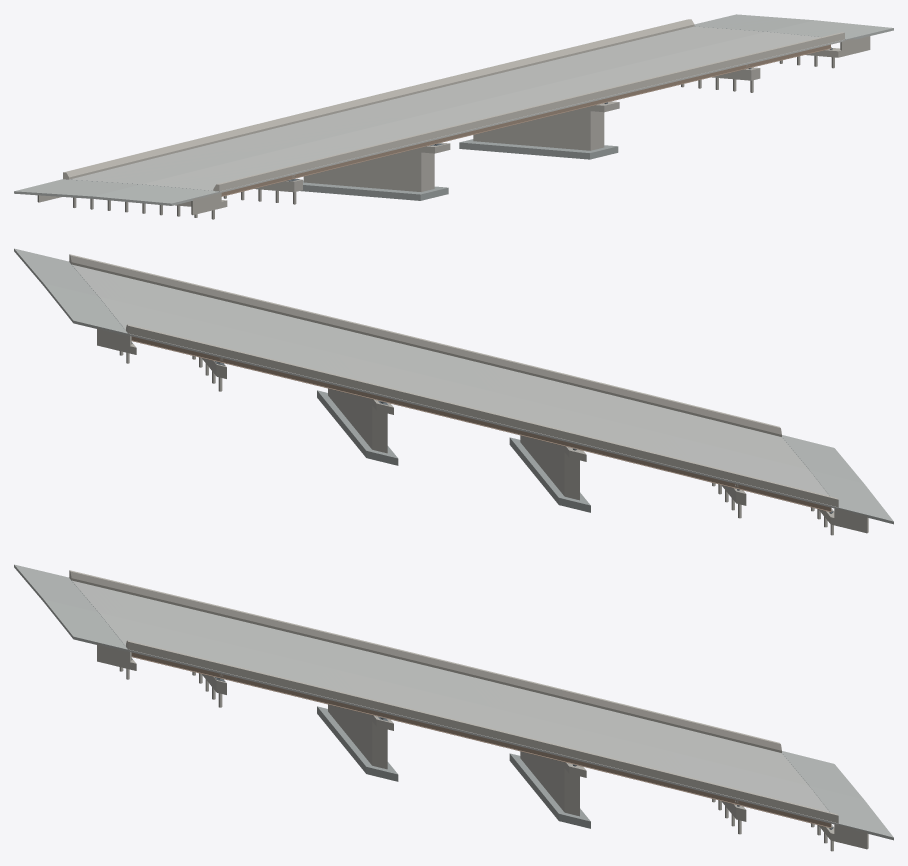
3 renders of one model, top to bottom at view 1: azimuth 30°, elevation 25°; view 2: azimuth 150°, elevation 25°; view 3: azimuth 330°, elevation 25°, orthographic. The views are drawn at different scales.
Visible parts, largest first — view 1: deck, wall_3, wall_2, approach_-1, approach_1, footing_3, footing_2, rail_1_0, rail_1_1, rail_1_2, rail_1_3, rail_1_4 (+10 smaller); view 2: deck, approach_1, approach_-1, wall_3, wall_2, rail_-1_4, rail_-1_2, rail_-1_0, rail_-1_3, rail_-1_1, rail_1_0, rail_1_4 (+10 smaller); view 3: deck, approach_-1, approach_1, wall_2, wall_3, rail_1_0, rail_1_2, rail_1_4, rail_1_1, rail_1_3, rail_-1_4, rail_-1_0 (+10 smaller).
Part boxes in pixels (x1,y1,x2,y2): deck: (70, 26, 845, 192); wall_3: (473, 110, 604, 150); wall_2: (303, 151, 434, 191); approach_-1: (14, 179, 219, 205); approach_1: (694, 14, 893, 39); footing_3: (459, 139, 618, 159); footing_2: (300, 180, 448, 200); rail_1_0: (63, 141, 194, 179); rail_1_1: (189, 110, 319, 148); rail_1_2: (314, 79, 444, 117); rail_1_3: (439, 49, 569, 86); rail_1_4: (564, 19, 694, 56); deck: (72, 264, 838, 509); approach_1: (14, 248, 128, 335); approach_-1: (782, 435, 893, 524); wall_3: (328, 388, 387, 453); wall_2: (520, 435, 579, 500); rail_-1_4: (69, 254, 213, 298); rail_-1_2: (354, 322, 497, 366); rail_-1_0: (638, 392, 781, 436); rail_-1_3: (211, 288, 355, 332); rail_-1_1: (496, 357, 639, 401); rail_1_0: (696, 463, 838, 507); rail_1_4: (126, 324, 270, 367); deck: (72, 580, 838, 825); approach_-1: (14, 564, 128, 651); approach_1: (782, 751, 893, 840); wall_2: (328, 704, 387, 769); wall_3: (520, 751, 579, 816); rail_1_0: (69, 570, 213, 614); rail_1_2: (354, 638, 497, 682); rail_1_4: (638, 708, 781, 752); rail_1_1: (211, 604, 355, 648); rail_1_3: (496, 673, 639, 717); rail_-1_4: (696, 779, 838, 823); rail_-1_0: (126, 640, 270, 683).
Bounding box in the file's own units: 107 × 8.68 × 11.82.
